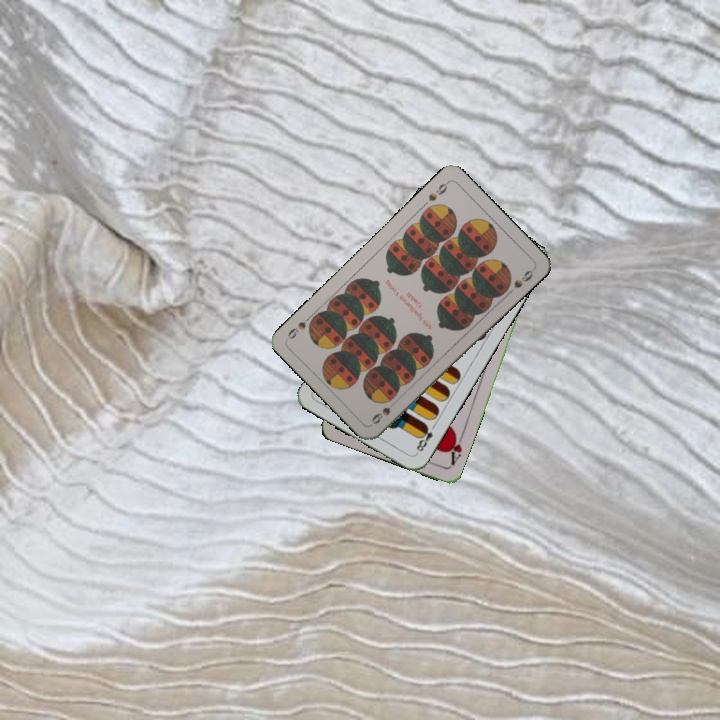E8: (412, 420, 438, 457)
HA: (444, 428, 466, 468)
S9: (367, 395, 400, 427), (424, 177, 451, 204)
